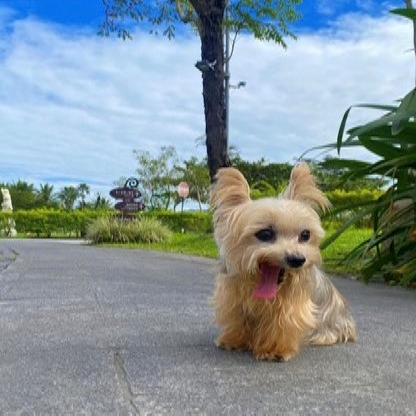yorkshire: (199, 159, 359, 366)
